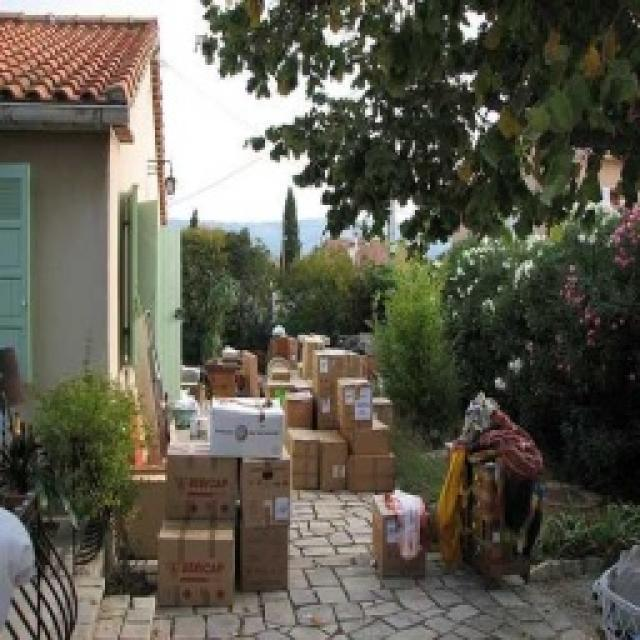box: (158, 525, 241, 603), (201, 384, 282, 456), (167, 448, 245, 519), (116, 472, 172, 551), (381, 497, 429, 580), (244, 458, 292, 529), (243, 525, 288, 587), (212, 355, 263, 404), (313, 346, 363, 390), (349, 421, 396, 459), (322, 431, 350, 489), (350, 454, 398, 487), (294, 425, 318, 491), (344, 377, 372, 423), (282, 395, 318, 428), (371, 395, 393, 424), (277, 340, 299, 357)
